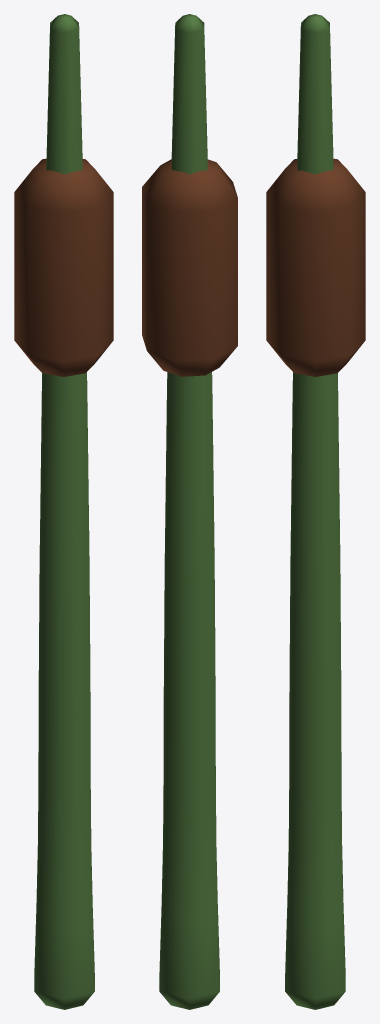
The model's file is Roseaux.fbx.
3 renders of one model, left to right at view 1: azimuth 90°, elevation 25°; view 2: azimuth 210°, elevation 25°; view 3: azimuth 270°, elevation 25°, orthographic.
Visible parts, largest first — view 1: Roseaux; view 2: Roseaux; view 3: Roseaux.
Part boxes in pixels (<box>): Roseaux: <box>14,14,113,1009</box>; Roseaux: <box>142,14,237,1009</box>; Roseaux: <box>266,14,365,1009</box>.
Bounding box in the file's own units: 16.65 × 183 × 16.65.
